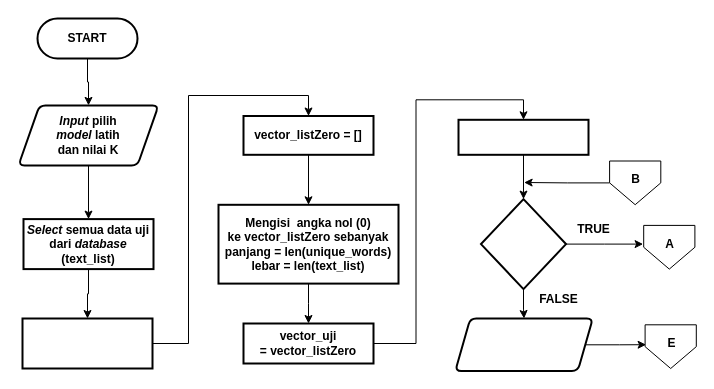
The diagram is 714 pixels wide and 389 high, and some of its shapes have lost their labels. Each missing label, with the centre of its shape:
"i = 0" goes at [523,136].
"Load model latih yang dipilih" goes at [87,343].
"Output vector_uji" goes at [523,344].
"text_list ada?" goes at [523,244].
